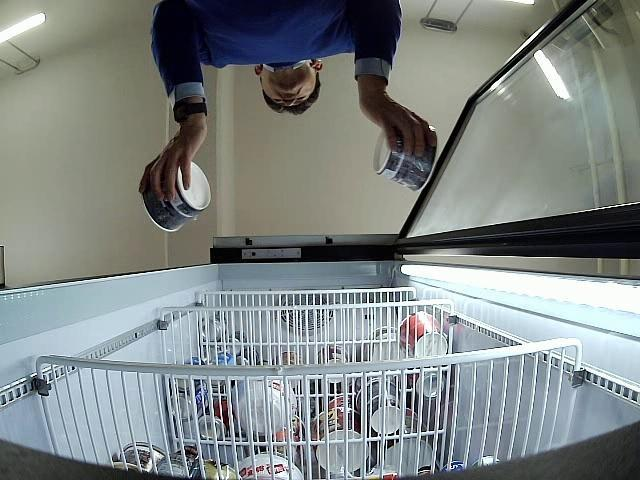07_buldak_L: (142, 160, 211, 232), (372, 126, 438, 191)
